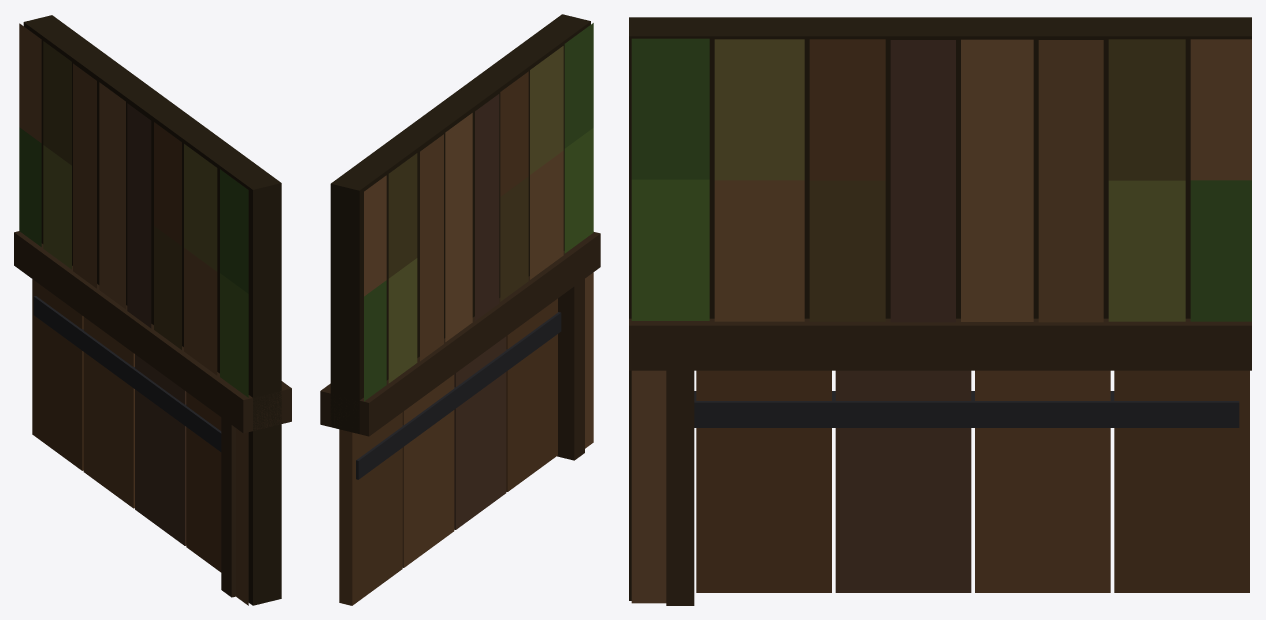
File: wall-mossy-door-shut-high-r.glb
3 views of the same model, side by side, from view 1: azimuth 30°, elevation 25°; view 2: azimuth 150°, elevation 25°; view 3: azimuth 270°, elevation 25° (orthographic). The views are drawn at different scales.
Visible parts, largest first — view 1: wall-mossy-door-shut-high-r; view 2: wall-mossy-door-shut-high-r; view 3: wall-mossy-door-shut-high-r.
Boxes of the visible parts, x1,y1,x2,y2 form: wall-mossy-door-shut-high-r: (14,15,291,605); wall-mossy-door-shut-high-r: (320,14,600,605); wall-mossy-door-shut-high-r: (629,17,1251,605).
Size of the model in its own units: 0.122 by 1 by 1.
